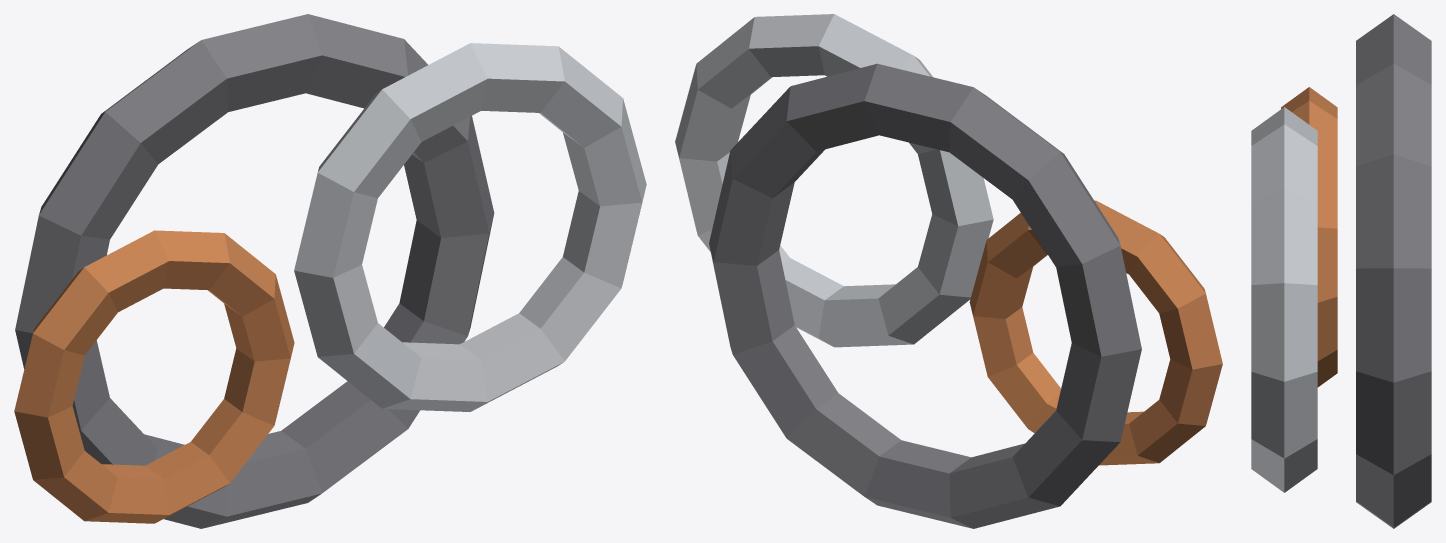
File: industrial_gear_stack.glb
The picture shows the model from 3 angles, left to right: view 1: azimuth 30°, elevation 25°; view 2: azimuth 150°, elevation 25°; view 3: azimuth 270°, elevation 25°; orthographic projection. The views are drawn at different scales.
Visible parts, largest first — view 1: gear_a, gear_b, gear_c; view 2: gear_a, gear_b, gear_c; view 3: gear_a, gear_b, gear_c.
Part boxes in pixels (left/top/right/bottom): gear_a: left=15, top=14, right=494, bottom=528; gear_b: left=294, top=43, right=646, bottom=411; gear_c: left=14, top=230, right=294, bottom=523; gear_a: left=709, top=63, right=1141, bottom=528; gear_b: left=675, top=14, right=993, bottom=347; gear_c: left=969, top=200, right=1222, bottom=465; gear_a: left=1356, top=14, right=1431, bottom=528; gear_b: left=1251, top=107, right=1317, bottom=492; gear_c: left=1281, top=87, right=1337, bottom=387.
Size of the model in its own units: 1.37 by 1.03 by 0.3627.
